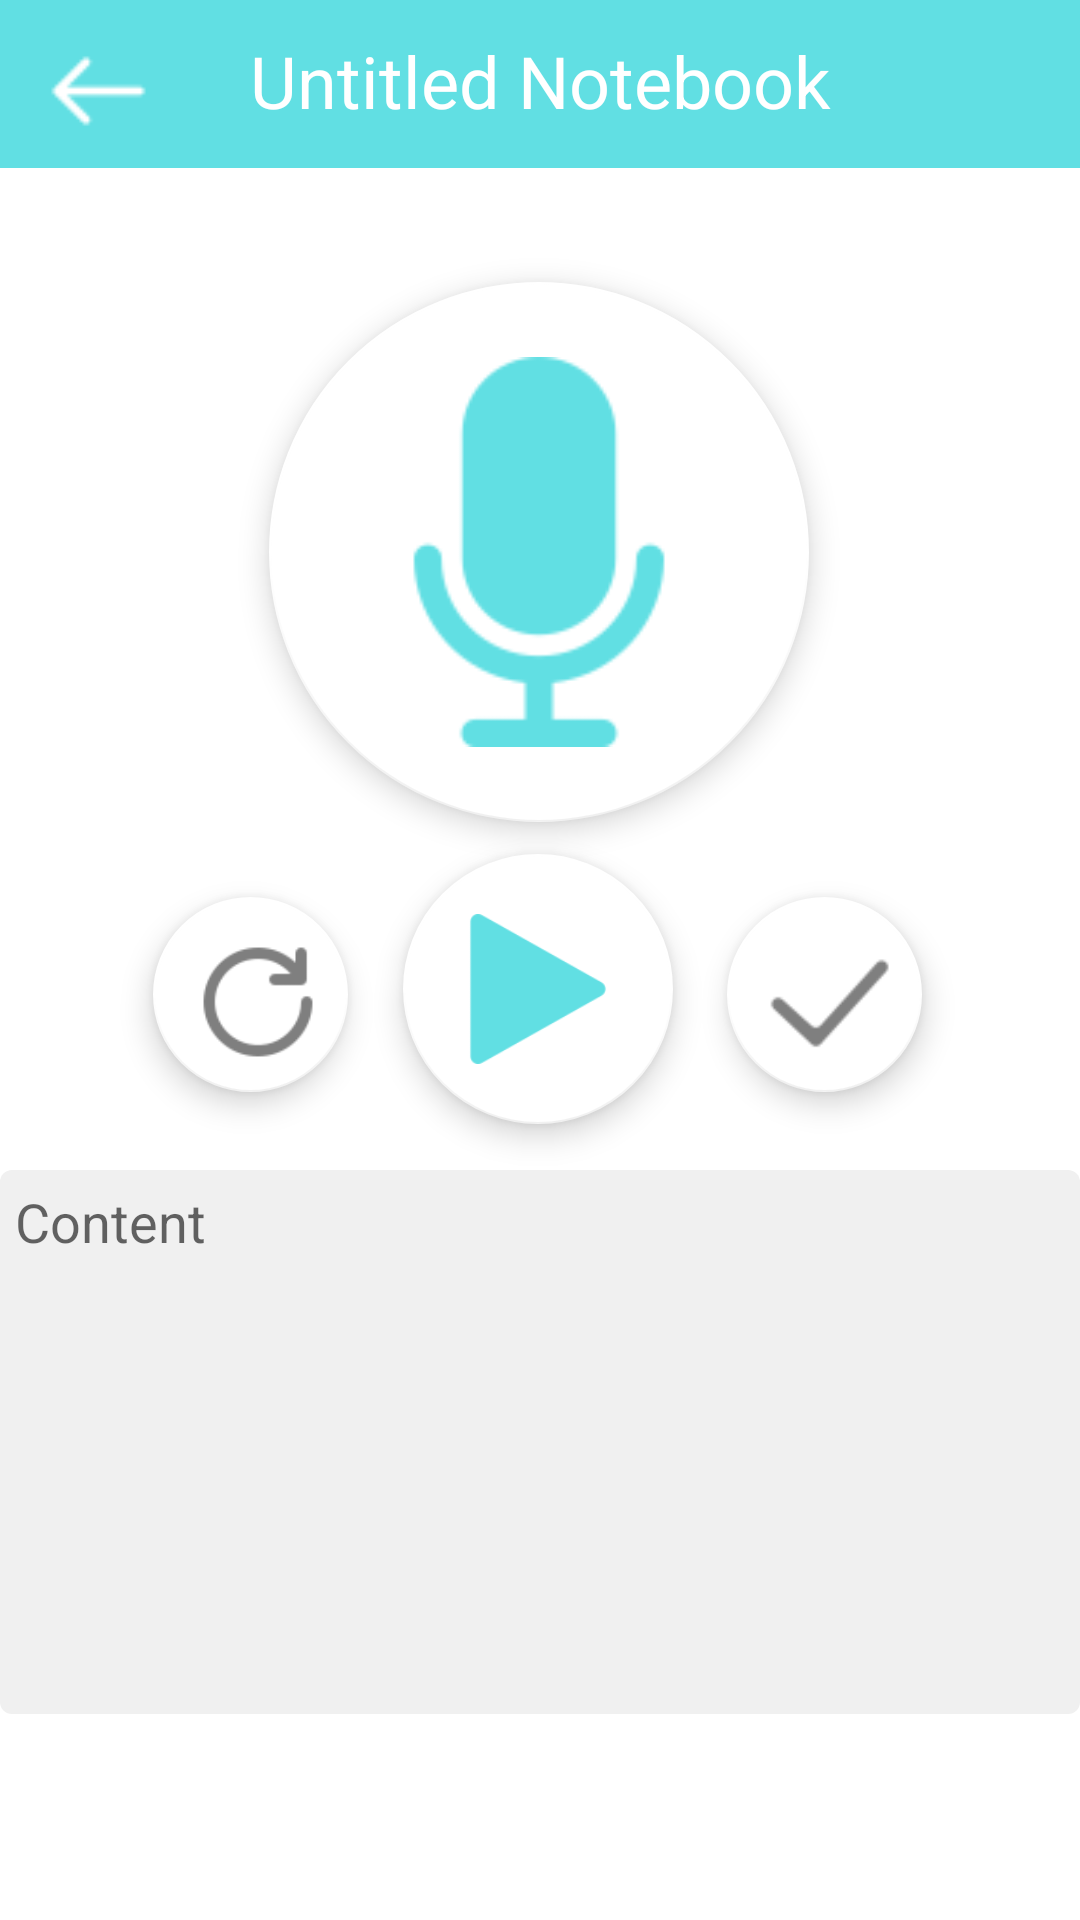

Screen size 1080 x 1920. Icon name, then its box in pixels as [x1, y1, x2, y2]:
back: [51, 56, 146, 126]
check: [735, 960, 922, 1047]
reload: [203, 947, 340, 1057]
